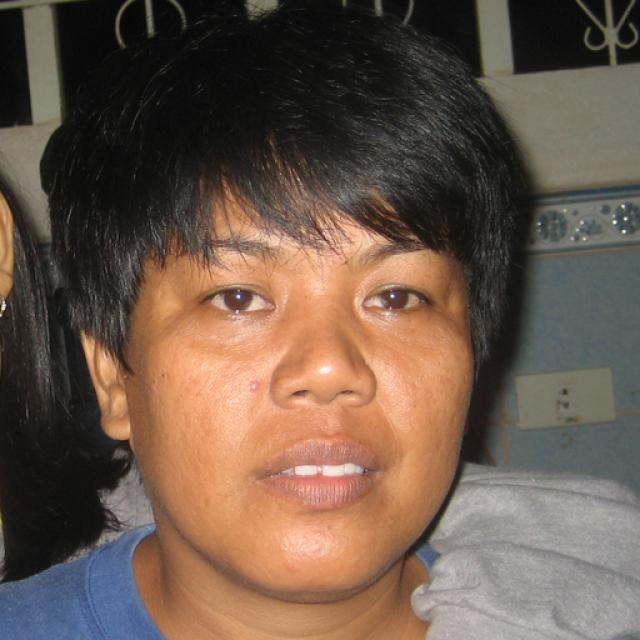Acne: (243, 379, 267, 397)
Dark Circle: (199, 305, 280, 336), (364, 309, 440, 331)
